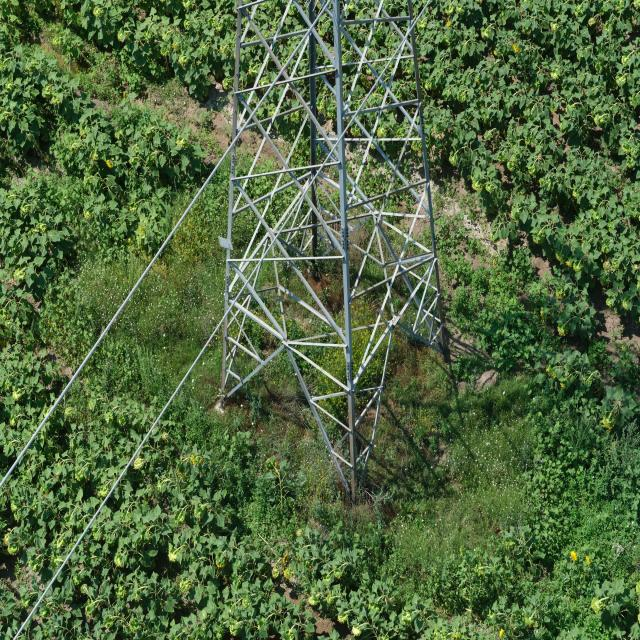sag_alt: (216, 7, 447, 493)
